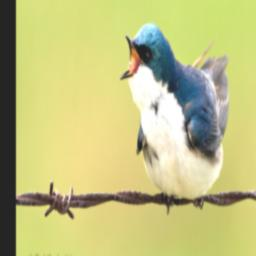Swallow: (116, 17, 230, 213)
